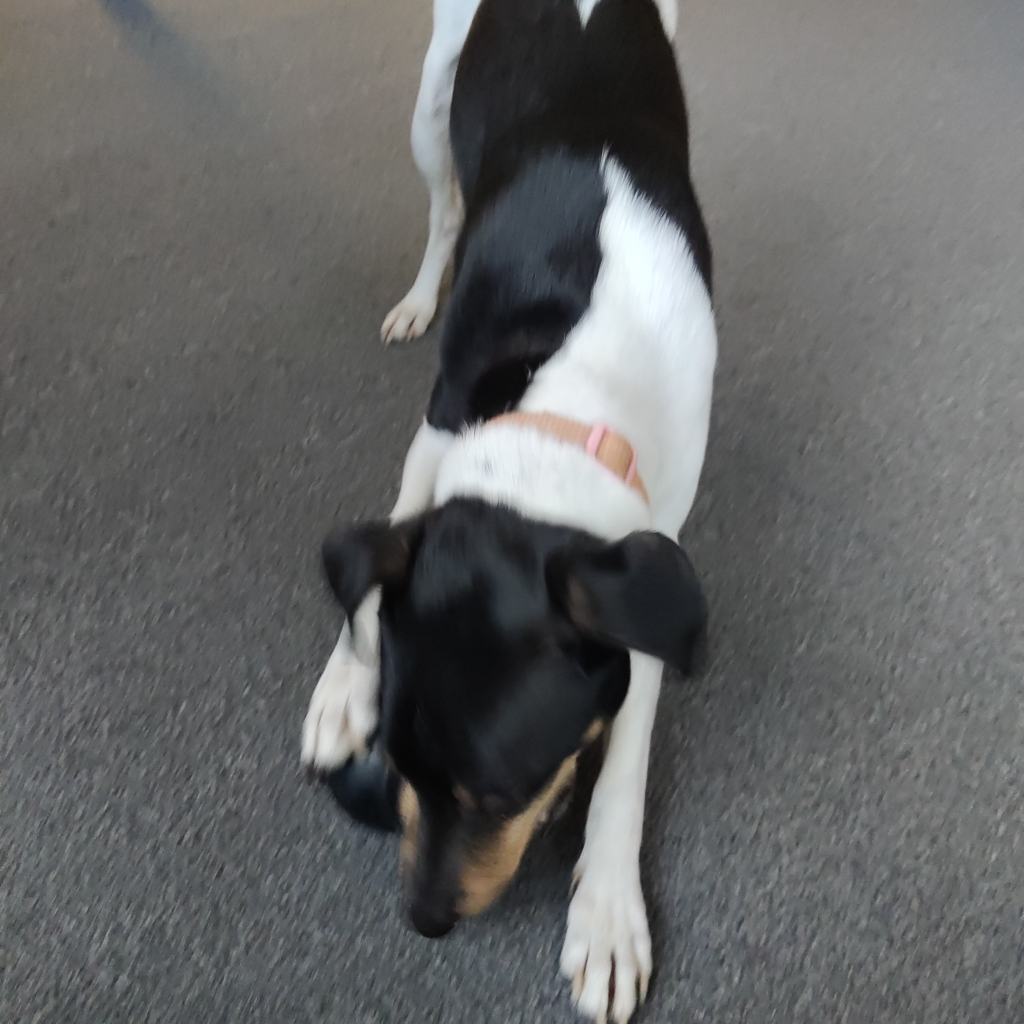Dog: (231, 0, 777, 1024)
